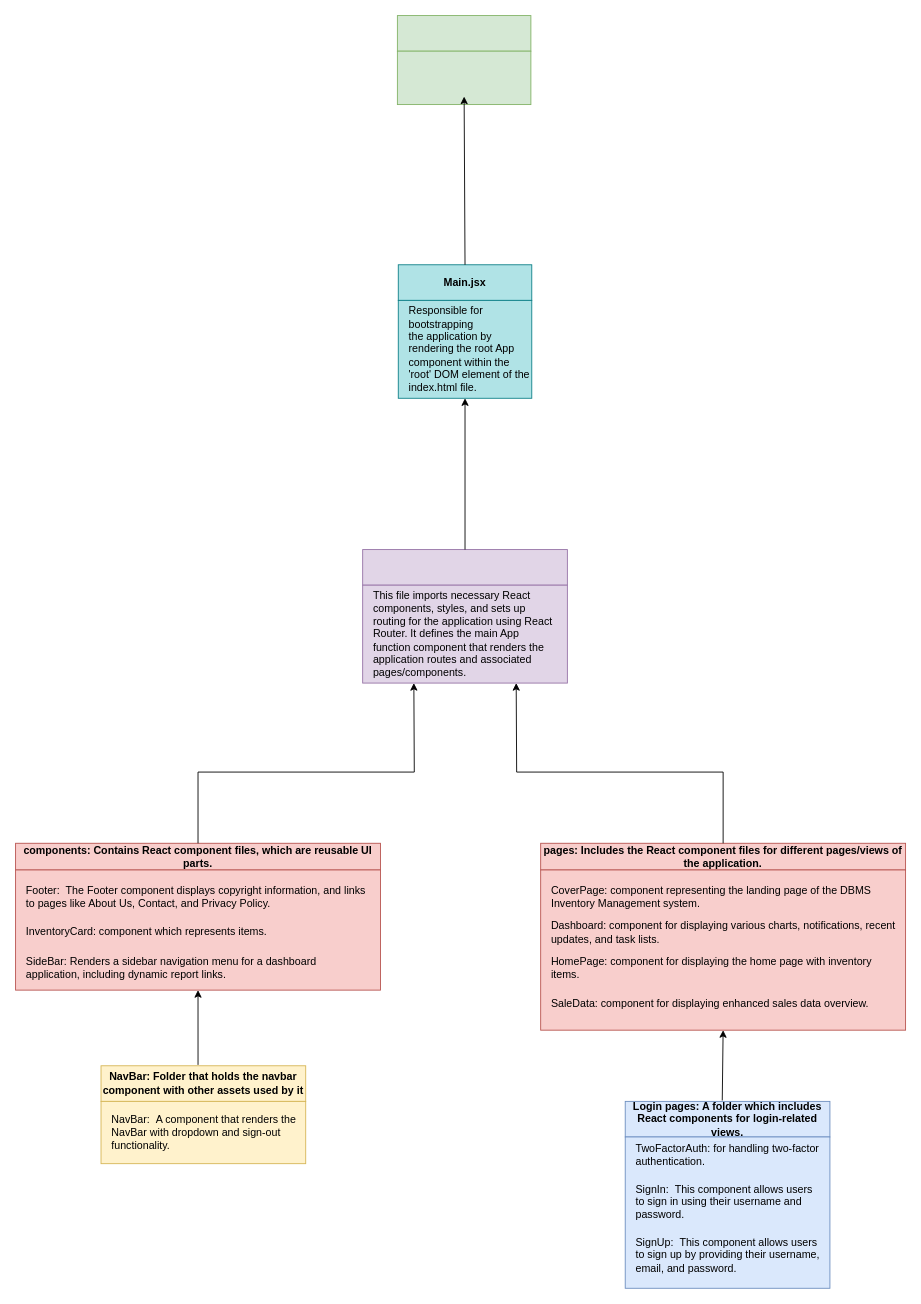
Image size: 921x1304. Some labels were removed from this diagram. Each missing label, with the box of its shape:
App.jsx: Main Application Entry File.: (362, 549, 567, 585)
index.html: (396, 15, 531, 51)
Serves as the HTML template for the React application: (396, 50, 531, 105)
